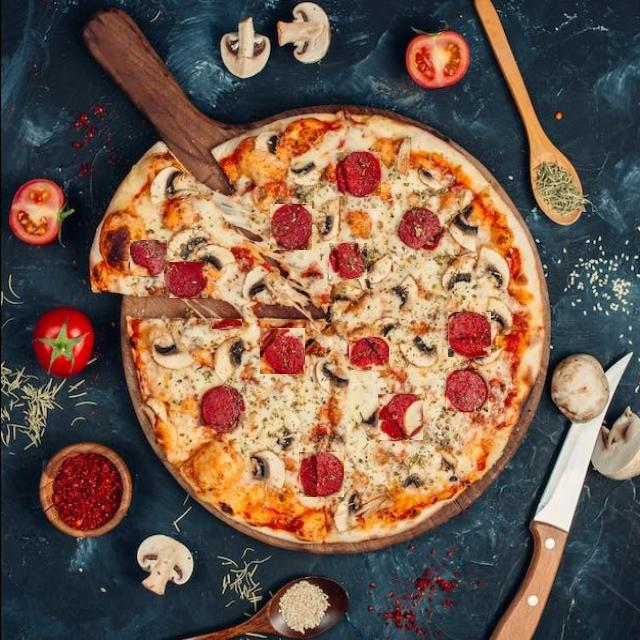pepperoni: (377, 394, 422, 440), (259, 328, 304, 374), (298, 452, 343, 497), (202, 385, 244, 433), (335, 152, 380, 196), (447, 312, 490, 357), (269, 204, 311, 250), (398, 208, 443, 250), (445, 370, 487, 412), (163, 262, 207, 298), (328, 243, 366, 279), (129, 240, 166, 276), (348, 337, 388, 370), (211, 319, 241, 329)
pizza: (89, 113, 546, 546)
